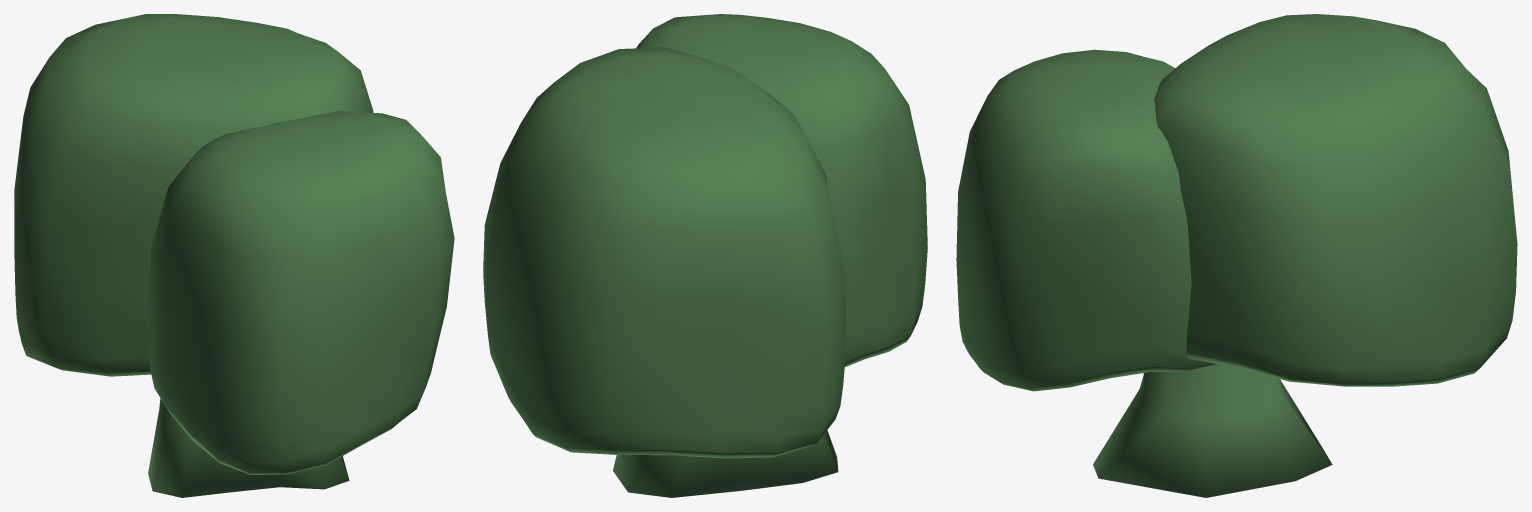
The model's file is bush1-compressed.glb.
The picture shows the model from 3 angles, left to right: view 1: azimuth 30°, elevation 25°; view 2: azimuth 150°, elevation 25°; view 3: azimuth 270°, elevation 25°; orthographic projection. The views are drawn at different scales.
Visible parts, largest first — view 1: bush1; view 2: bush1; view 3: bush1.
Part boxes in pixels (x1,y1,x2,y2): bush1: [14, 14, 454, 497]; bush1: [483, 14, 927, 497]; bush1: [956, 14, 1517, 497].
Bounding box in the file's own units: 0.838 × 0.9 × 1.15.
